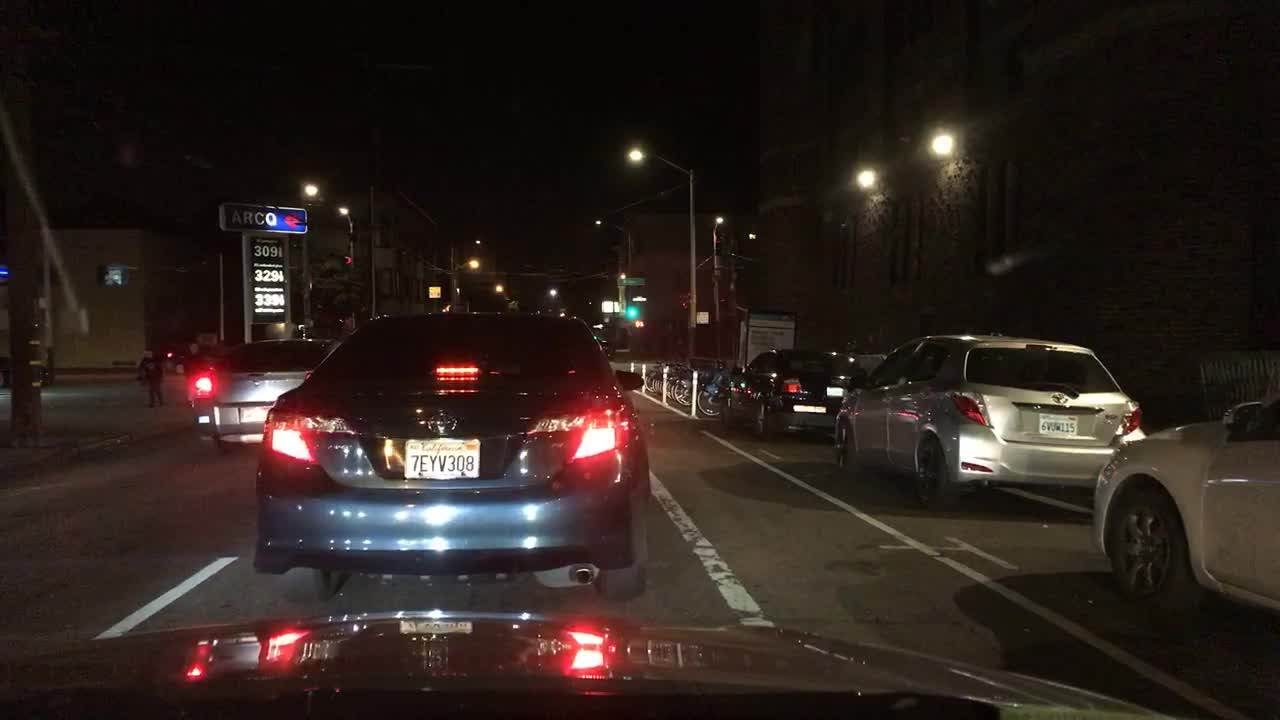bike: (696, 372, 728, 418), (674, 358, 701, 407), (673, 360, 689, 407), (651, 358, 665, 393), (661, 361, 673, 399), (655, 361, 666, 393), (669, 360, 677, 403), (644, 366, 655, 392), (647, 368, 654, 389)
car: (253, 309, 651, 603), (831, 333, 1147, 514), (1090, 394, 1277, 610), (192, 336, 328, 446), (725, 347, 866, 441), (599, 337, 615, 360)
person: (137, 347, 168, 408)
traffic light: (627, 303, 639, 320), (341, 254, 352, 266), (630, 320, 644, 328)
traffic sign: (616, 276, 646, 286), (696, 308, 710, 325), (426, 284, 442, 298), (601, 299, 612, 313)
